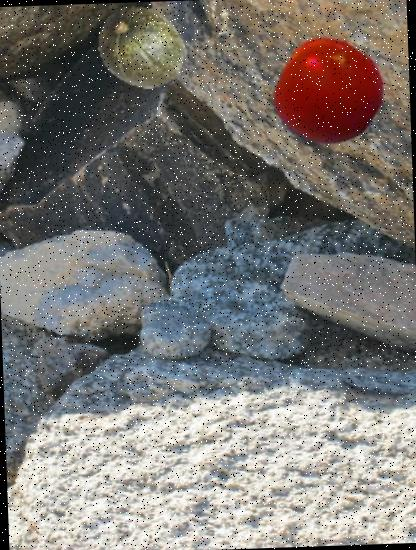Melon: (96, 1, 186, 90)
Tomato: (274, 36, 386, 148)
